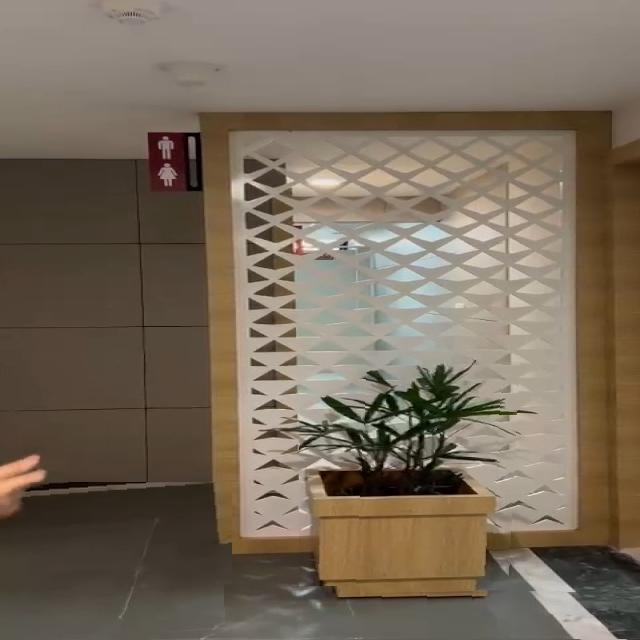floor: (0, 482, 232, 640), (224, 584, 640, 639)
furniture: (299, 361, 520, 592)
